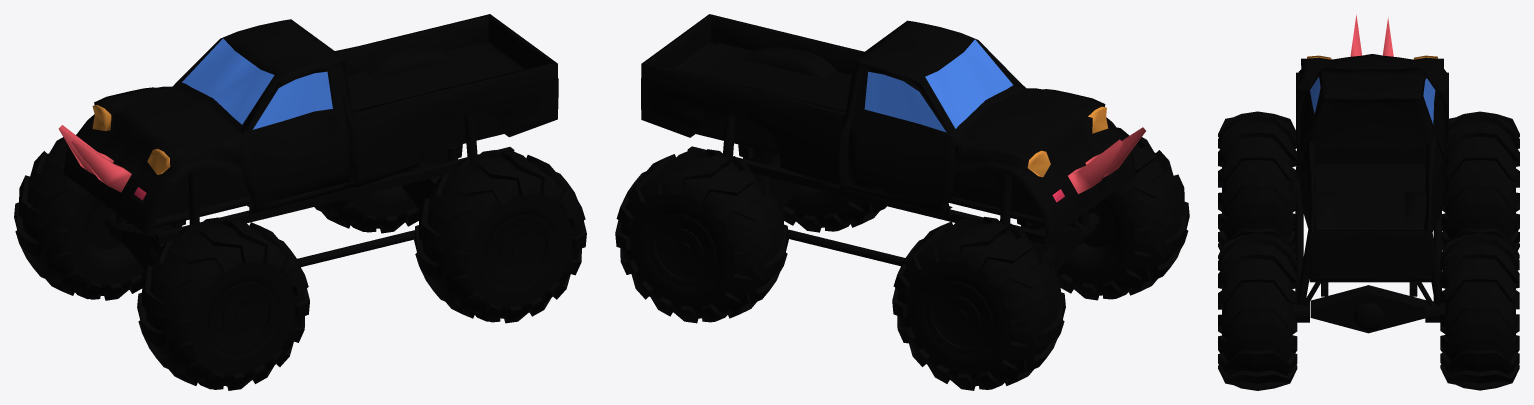
The model's file is xuan.fbx.
3 views of the same model, side by side, from view 1: azimuth 30°, elevation 25°; view 2: azimuth 150°, elevation 25°; view 3: azimuth 270°, elevation 25° (orthographic). The views are drawn at different scales.
Parts seen in each view (by area): view 1: Sphere.001, back left, front left, front right, back right; view 2: Sphere.001, front right, back right, front left, back left; view 3: Sphere.001, back left, back right, front left, front right.
Boxes of the visible parts, x1,y1,x2,y2 form: Sphere.001: (58,14,558,355); back left: (414,150,586,323); front left: (137,217,309,390); front right: (14,134,185,300); back right: (314,144,462,233); Sphere.001: (641,14,1145,354); front right: (892,216,1065,390); back right: (615,149,788,323); front left: (1017,127,1189,300); back left: (738,144,886,232); Sphere.001: (1222,14,1515,335); back left: (1218,233,1297,390); back right: (1440,233,1519,390); front left: (1218,111,1297,250); front right: (1442,111,1519,250).
Size of the model in its own units: 587 by 315 by 367.
